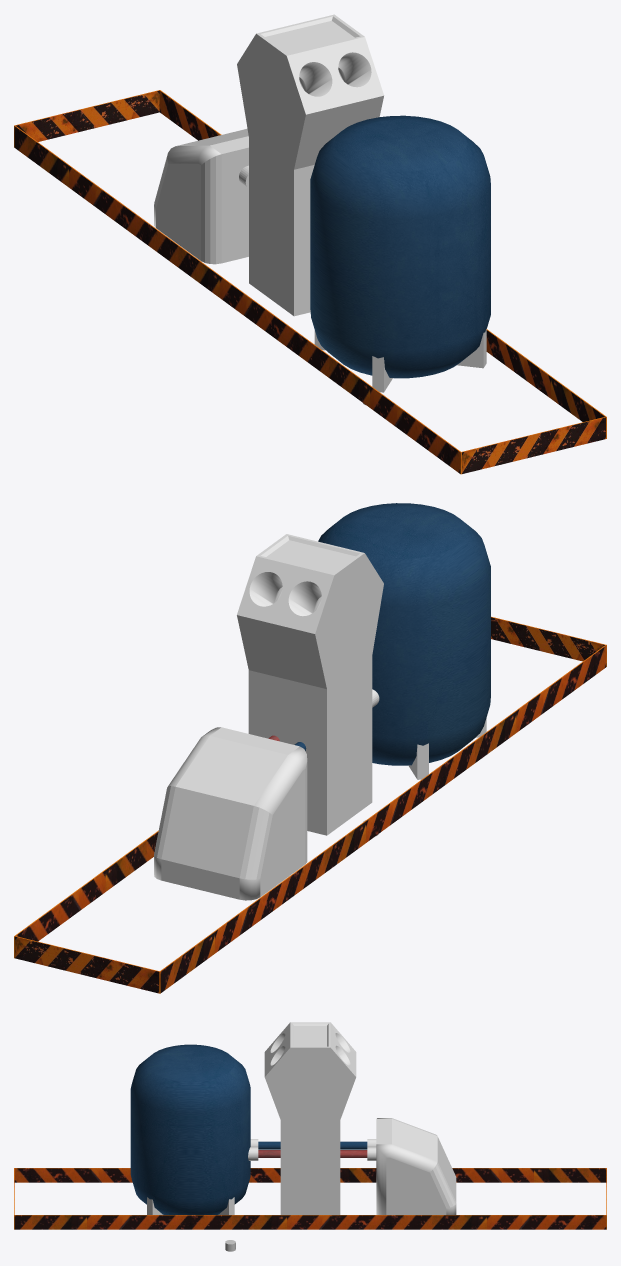
The model's file is AirCar_Mesh.fbx.
3 renders of one model, top to bottom at view 1: azimuth 30°, elevation 25°; view 2: azimuth 150°, elevation 25°; view 3: azimuth 270°, elevation 25°, orthographic. The views are drawn at different scales.
Visible parts, largest first — view 1: AirTank, Compressor, SafetyFence, Manifold, TankBracket; view 2: Compressor, AirTank, Manifold, SafetyFence; view 3: AirTank, SafetyFence, Compressor, Manifold, Intake, PipeFittings, ReturnLine.
Boxes of the visible parts, left/top/right/bottom form: AirTank: left=310, top=115, right=490, bottom=378; Compressor: left=237, top=14, right=384, bottom=316; SafetyFence: left=14, top=90, right=606, bottom=474; Manifold: left=154, top=128, right=248, bottom=264; TankBracket: left=314, top=328, right=486, bottom=392; Compressor: left=237, top=534, right=383, bottom=835; AirTank: left=318, top=503, right=490, bottom=765; Manifold: left=154, top=727, right=307, bottom=900; SafetyFence: left=14, top=616, right=606, bottom=993; AirTank: left=130, top=1044, right=250, bottom=1214; SafetyFence: left=14, top=1168, right=606, bottom=1229; Compressor: left=264, top=1022, right=356, bottom=1214; Manifold: left=376, top=1118, right=456, bottom=1214; Intake: left=258, top=1141, right=367, bottom=1149; PipeFittings: left=248, top=1139, right=376, bottom=1160; ReturnLine: left=258, top=1150, right=367, bottom=1157.
Size of the model in its own units: 300 by 592 by 1483.
